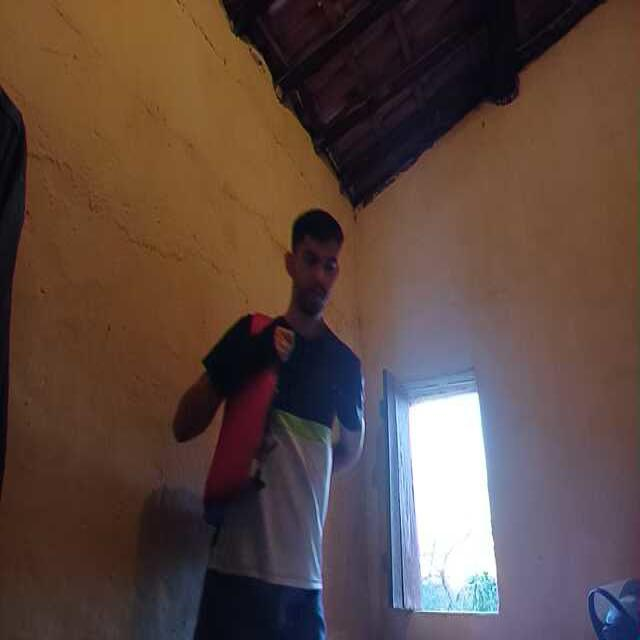colete: (208, 318, 282, 522)
pessoa: (191, 211, 364, 634)
